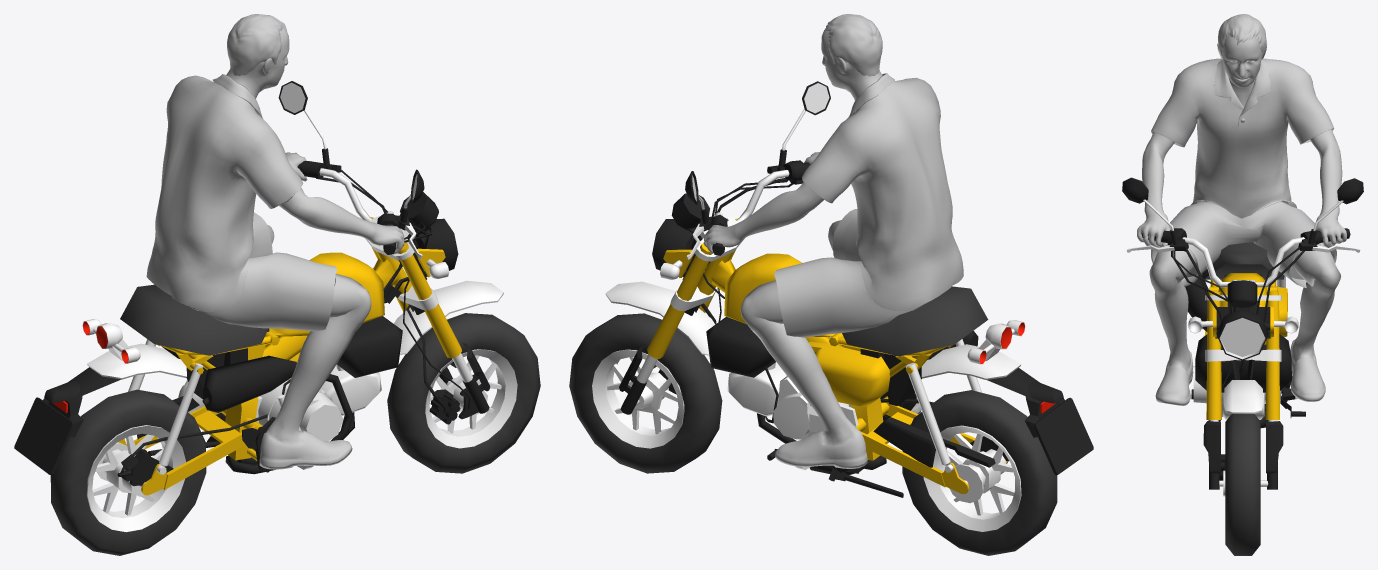
The model's file is sm_honda_monkey_lod_2.fbx.
3 views of the same model, side by side, from view 1: azimuth 30°, elevation 25°; view 2: azimuth 150°, elevation 25°; view 3: azimuth 270°, elevation 25° (orthographic). The views are drawn at different scales.
Visible parts, largest first — view 1: sm_honda_monkey_lod_3; view 2: sm_honda_monkey_lod_3; view 3: sm_honda_monkey_lod_3.
Part boxes in pixels (x1=…): sm_honda_monkey_lod_3: x1=14, y1=14, x2=540, y2=555; sm_honda_monkey_lod_3: x1=569, y1=14, x2=1093, y2=555; sm_honda_monkey_lod_3: x1=1122, y1=14, x2=1363, y2=555.
Size of the model in its own units: 1.77 by 1.69 by 0.8354.
